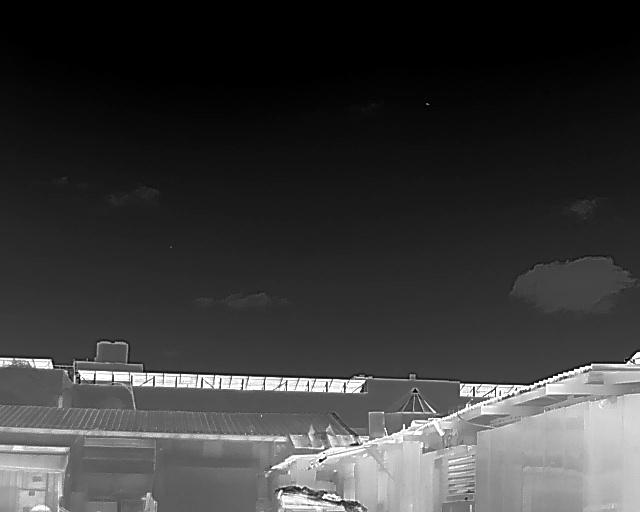fpv-drone: (425, 102, 429, 105)
